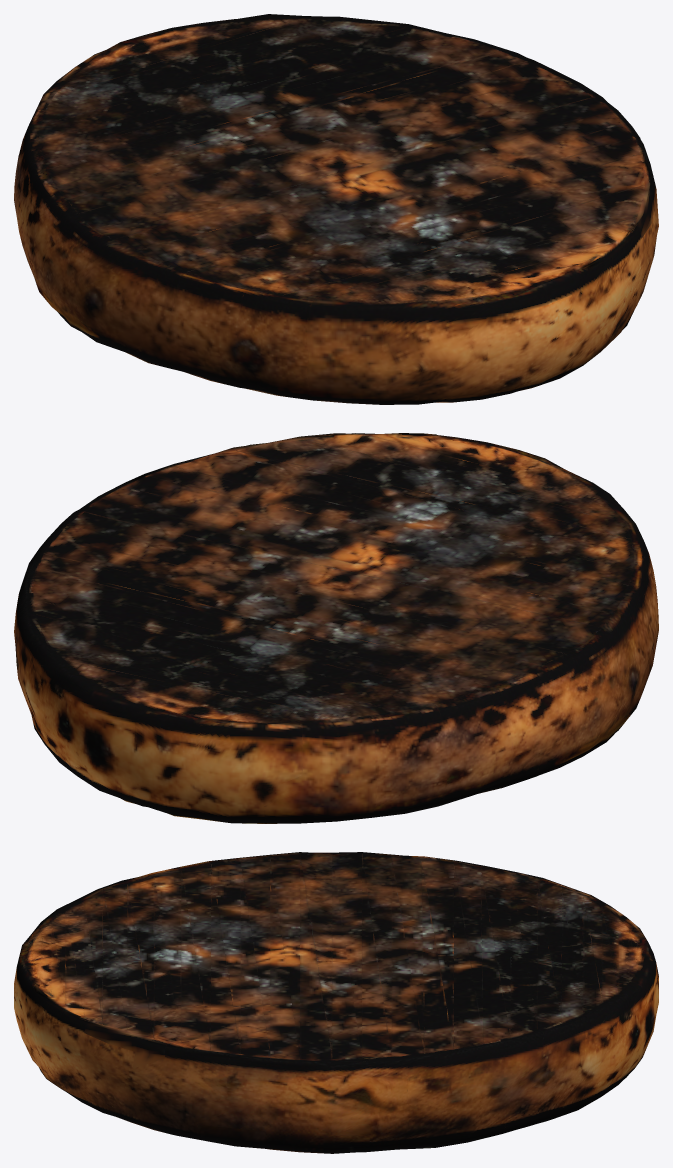
Rendered from Burned_potato_slice.fbx.
3 views of the same model, one above another, from view 1: azimuth 30°, elevation 25°; view 2: azimuth 150°, elevation 25°; view 3: azimuth 270°, elevation 25° (orthographic). The views are drawn at different scales.
Parts seen in each view (by area): view 1: Mesh_0.004; view 2: Mesh_0.004; view 3: Mesh_0.004.
Part boxes in pixels (x1,y1,x2,y2): Mesh_0.004: (14,14,658,404); Mesh_0.004: (14,433,658,823); Mesh_0.004: (14,852,658,1153).
Size of the model in its own units: 15.96 by 3.46 by 18.71.
1 material, 1 textured.
